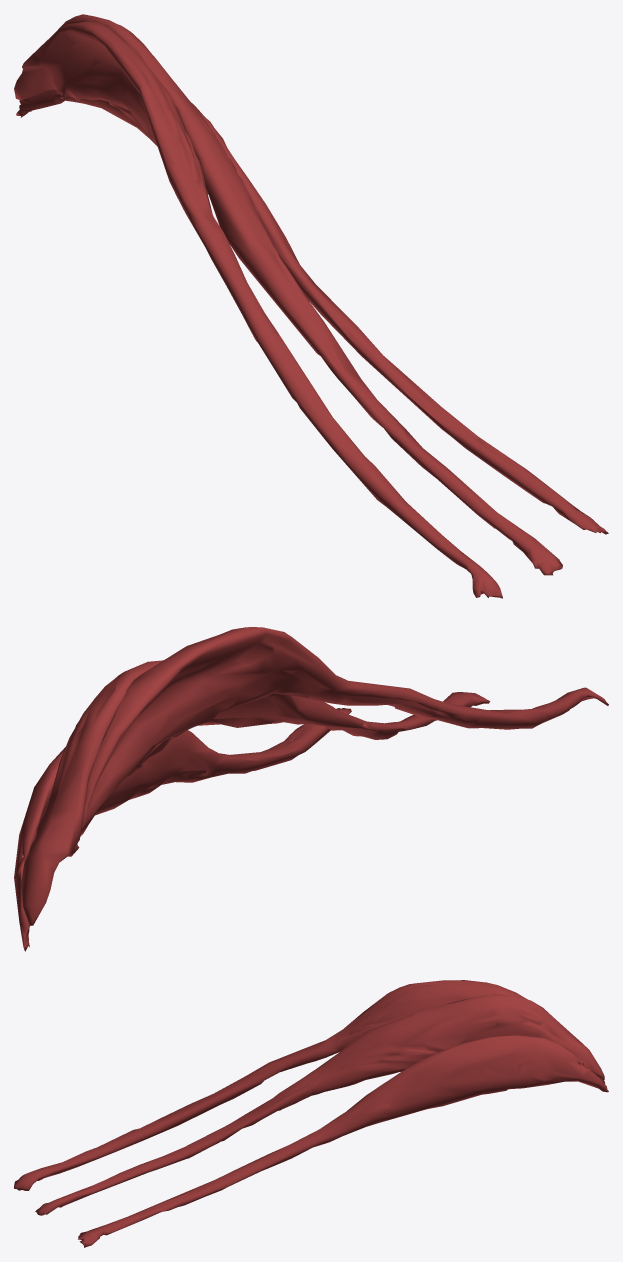
File: extensor-digitorum-brevis-l.glb
3 views of the same model, one above another, from view 1: azimuth 30°, elevation 25°; view 2: azimuth 150°, elevation 25°; view 3: azimuth 270°, elevation 25° (orthographic). The views are drawn at different scales.
Visible parts, largest first — view 1: Extensor digitorum brevis.l; view 2: Extensor digitorum brevis.l; view 3: Extensor digitorum brevis.l.
Boxes of the visible parts, left/top/right/bottom form: Extensor digitorum brevis.l: left=14, top=14, right=608, bottom=598; Extensor digitorum brevis.l: left=14, top=627, right=608, bottom=951; Extensor digitorum brevis.l: left=14, top=980, right=608, bottom=1247.
Bounding box in the file's own units: 0.0428 × 0.0587 × 0.1541.
